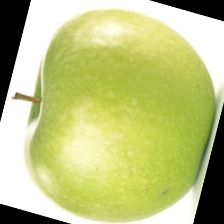apple: (17, 13, 213, 183)
